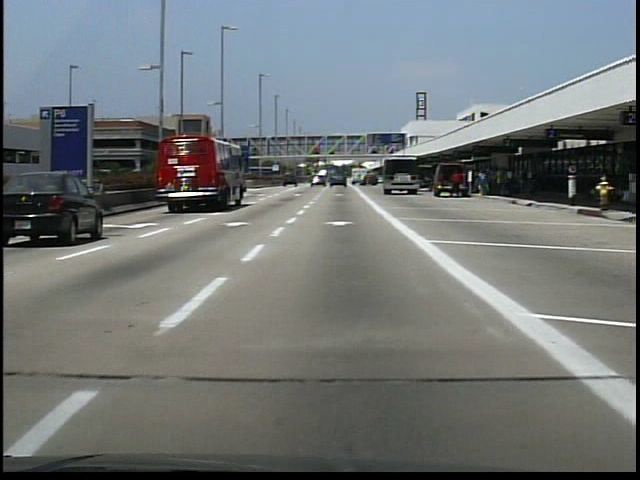person: (449, 168, 465, 204)
